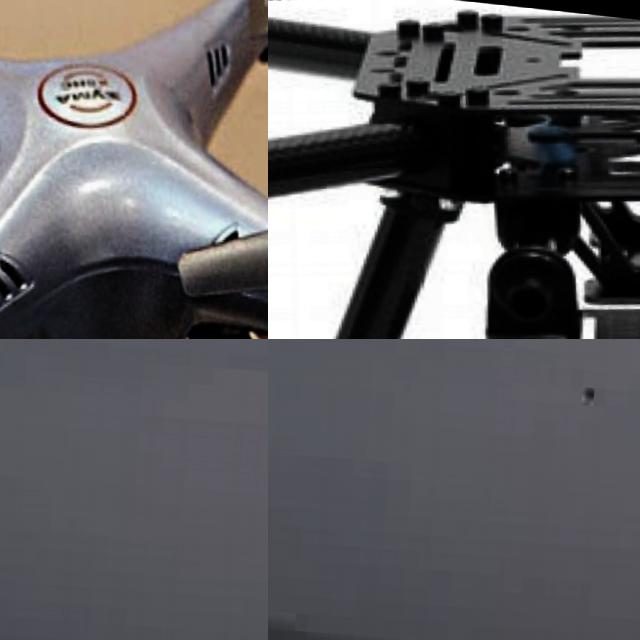drone: (268, 0, 640, 339), (0, 0, 268, 339)
